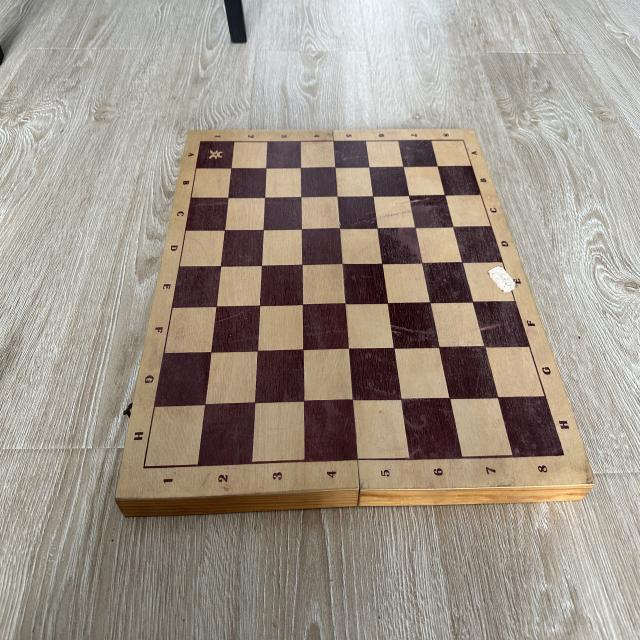chess-table-corners: (139, 461, 150, 474), (559, 447, 568, 459), (196, 135, 204, 147), (460, 136, 468, 146)
